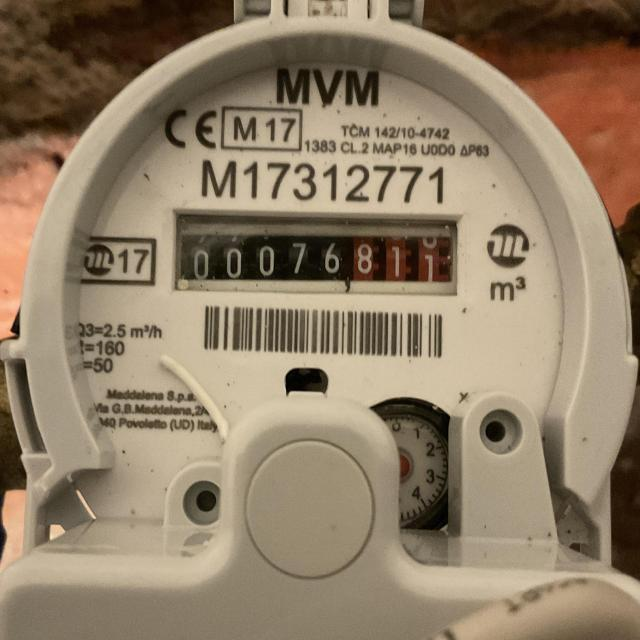gaz_meter: (18, 16, 635, 570)
indication: (178, 216, 460, 298)
